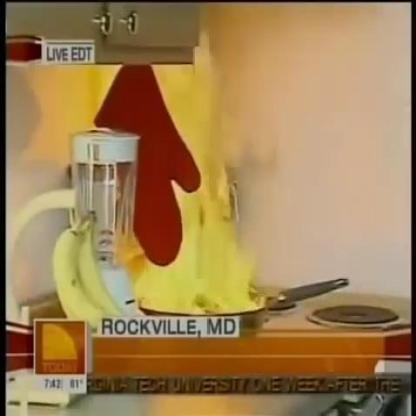fire: (134, 64, 264, 315)
